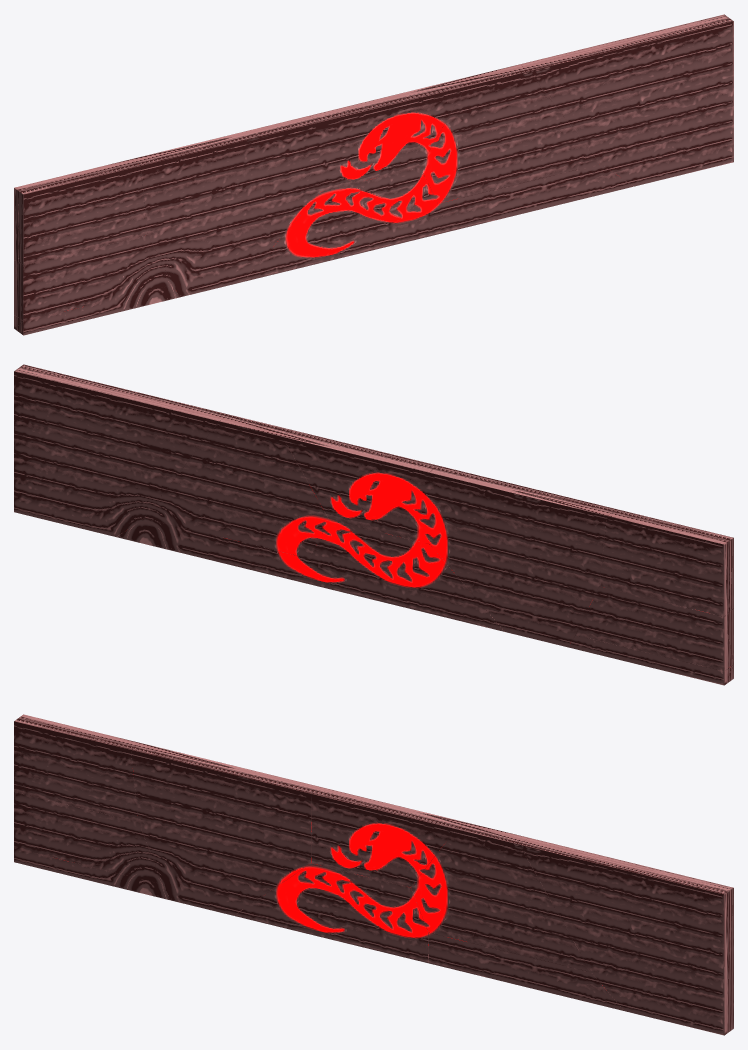
Rendered from BarreraSerpi_Rota.fbx.
3 renders of one model, top to bottom at view 1: azimuth 30°, elevation 25°; view 2: azimuth 150°, elevation 25°; view 3: azimuth 330°, elevation 25°, orthographic.
Parts seen in each view (by area): view 1: BarreraSerpi_cell.002, BarreraSerpi_cell.003, BarreraSerpi_cell.006, BarreraSerpi_cell.007, BarreraSerpi_cell.004, BarreraSerpi_cell.001, BarreraSerpi_cell, BarreraSerpi_cell.009, BarreraSerpi_cell.005, BarreraSerpi_cell.008; view 2: BarreraSerpi_cell.002, BarreraSerpi_cell.003, BarreraSerpi_cell.006, BarreraSerpi_cell.007, BarreraSerpi_cell.004, BarreraSerpi_cell.008, BarreraSerpi_cell, BarreraSerpi_cell.009, BarreraSerpi_cell.005, BarreraSerpi_cell.001; view 3: BarreraSerpi_cell.002, BarreraSerpi_cell.003, BarreraSerpi_cell.006, BarreraSerpi_cell.007, BarreraSerpi_cell.004, BarreraSerpi_cell.001, BarreraSerpi_cell, BarreraSerpi_cell.009, BarreraSerpi_cell.005, BarreraSerpi_cell.008.
Boxes of the visible parts, x1=… form: BarreraSerpi_cell.002: x1=519, y1=14, x2=733, y2=186; BarreraSerpi_cell.003: x1=131, y1=116, x2=320, y2=297; BarreraSerpi_cell.006: x1=416, y1=64, x2=599, y2=203; BarreraSerpi_cell.007: x1=243, y1=167, x2=437, y2=281; BarreraSerpi_cell.004: x1=309, y1=80, x2=464, y2=191; BarreraSerpi_cell.001: x1=18, y1=163, x2=147, y2=264; BarreraSerpi_cell: x1=14, y1=235, x2=171, y2=321; BarreraSerpi_cell.009: x1=438, y1=164, x2=633, y2=234; BarreraSerpi_cell.005: x1=14, y1=285, x2=179, y2=335; BarreraSerpi_cell.008: x1=14, y1=159, x2=134, y2=261; BarreraSerpi_cell.002: x1=14, y1=364, x2=228, y2=536; BarreraSerpi_cell.003: x1=429, y1=465, x2=616, y2=647; BarreraSerpi_cell.006: x1=144, y1=414, x2=328, y2=558; BarreraSerpi_cell.007: x1=310, y1=520, x2=504, y2=631; BarreraSerpi_cell.004: x1=283, y1=430, x2=436, y2=543; BarreraSerpi_cell.008: x1=599, y1=513, x2=729, y2=616; BarreraSerpi_cell: x1=576, y1=586, x2=733, y2=671; BarreraSerpi_cell.009: x1=116, y1=518, x2=314, y2=584; BarreraSerpi_cell.005: x1=568, y1=635, x2=733, y2=685; BarreraSerpi_cell.001: x1=613, y1=509, x2=733, y2=611; BarreraSerpi_cell.002: x1=519, y1=838, x2=733, y2=1035; BarreraSerpi_cell.003: x1=131, y1=743, x2=317, y2=915; BarreraSerpi_cell.006: x1=411, y1=822, x2=590, y2=971; BarreraSerpi_cell.007: x1=234, y1=863, x2=437, y2=963; BarreraSerpi_cell.004: x1=311, y1=786, x2=464, y2=887; BarreraSerpi_cell.001: x1=14, y1=718, x2=138, y2=821; BarreraSerpi_cell: x1=14, y1=792, x2=162, y2=884; BarreraSerpi_cell.009: x1=428, y1=933, x2=623, y2=1010; BarreraSerpi_cell.005: x1=14, y1=848, x2=170, y2=900; BarreraSerpi_cell.008: x1=19, y1=714, x2=140, y2=815.
Size of the model in its own units: 1079 by 205 by 25.01.
